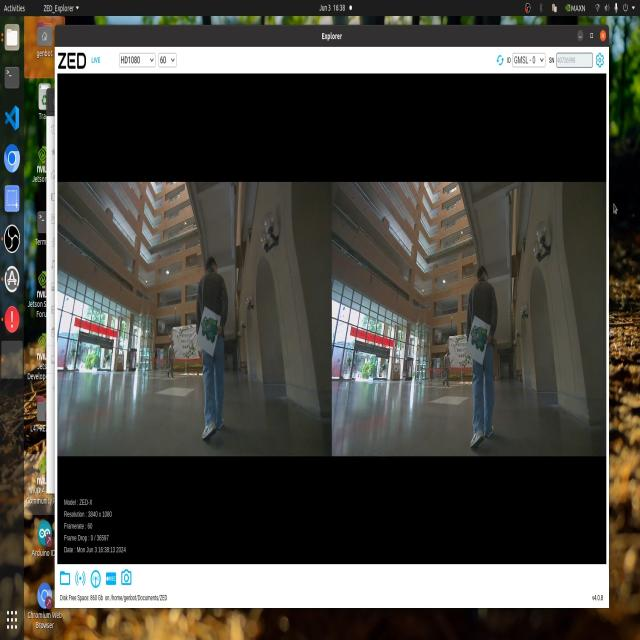green: (470, 314, 493, 364), (195, 307, 216, 347)
